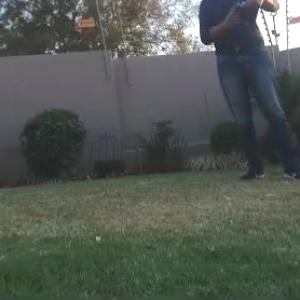follow: (196, 0, 300, 186)
